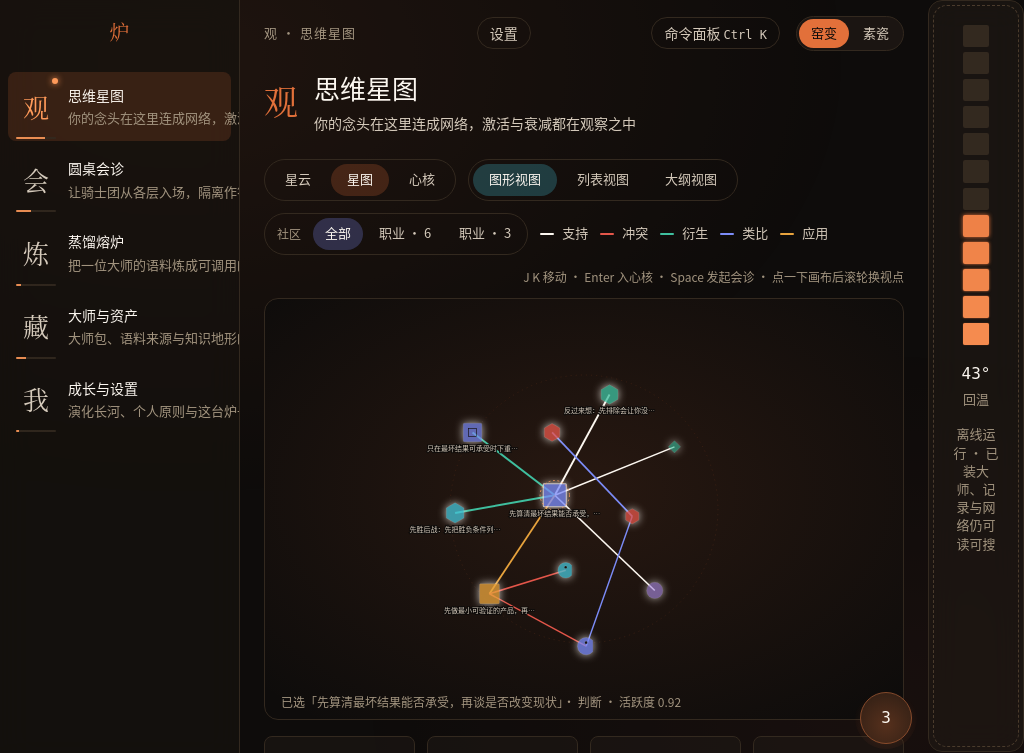
Test: 应用外壳 › 顶部设置按钮直接进「我」的设置页
The width and height of the screenshot is (1024, 753).
Click the button with aria-label "打开设置". click: x=504, y=33
box: [477,17,531,49]
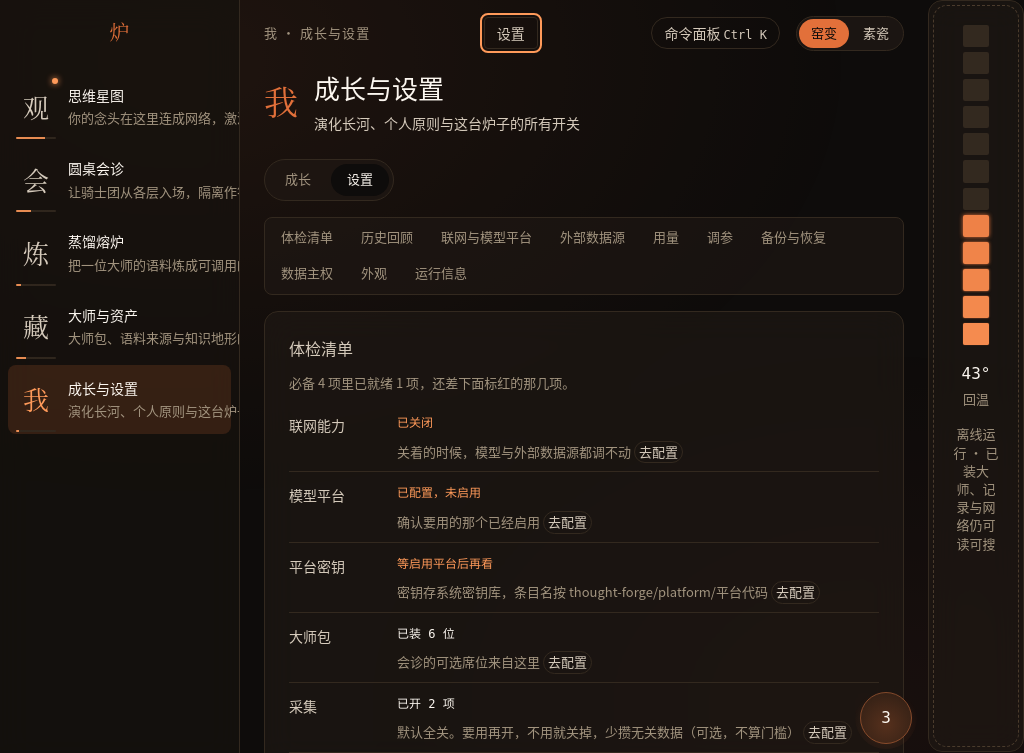
Check: the heading "体检清单" is shown, box [289,336,353,360]
